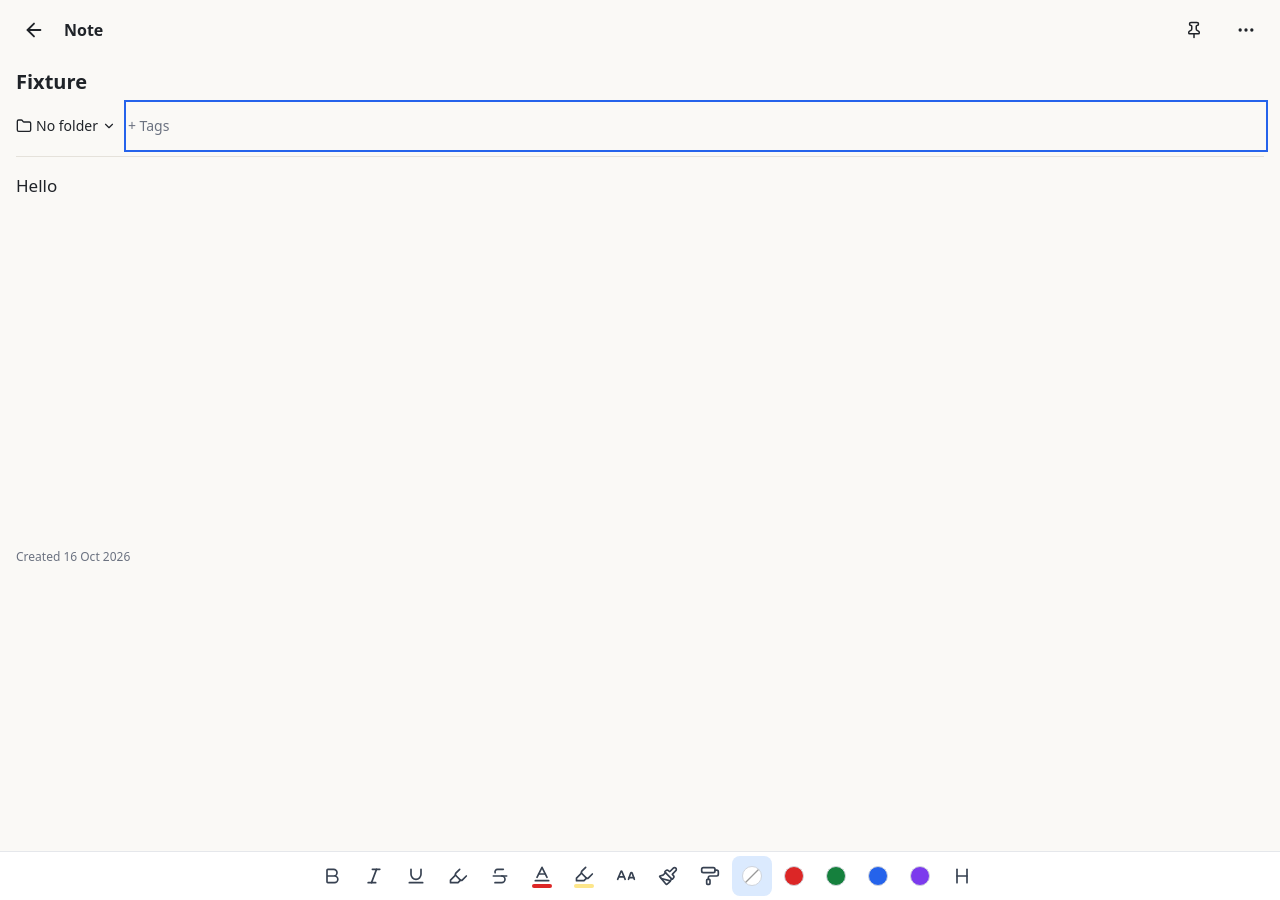
Test case: focuses tag entry with suggestions open, keeps them after adding, and saves through the queue before Done closes
Click the button with aria-label "Edit tags" at [149, 126], box [128, 104, 1264, 148]
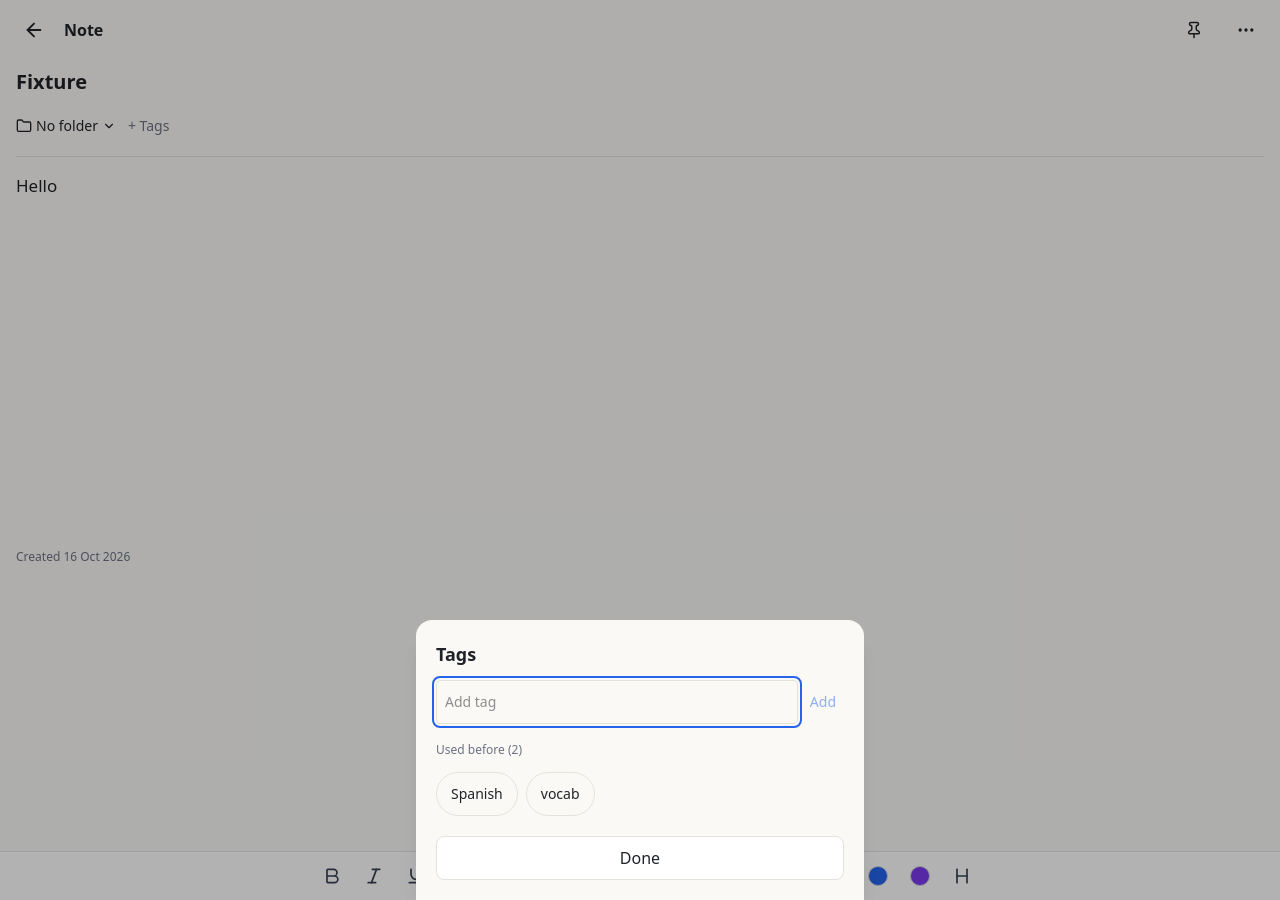
Click the button "Spanish" at [477, 794], box [436, 772, 518, 816]
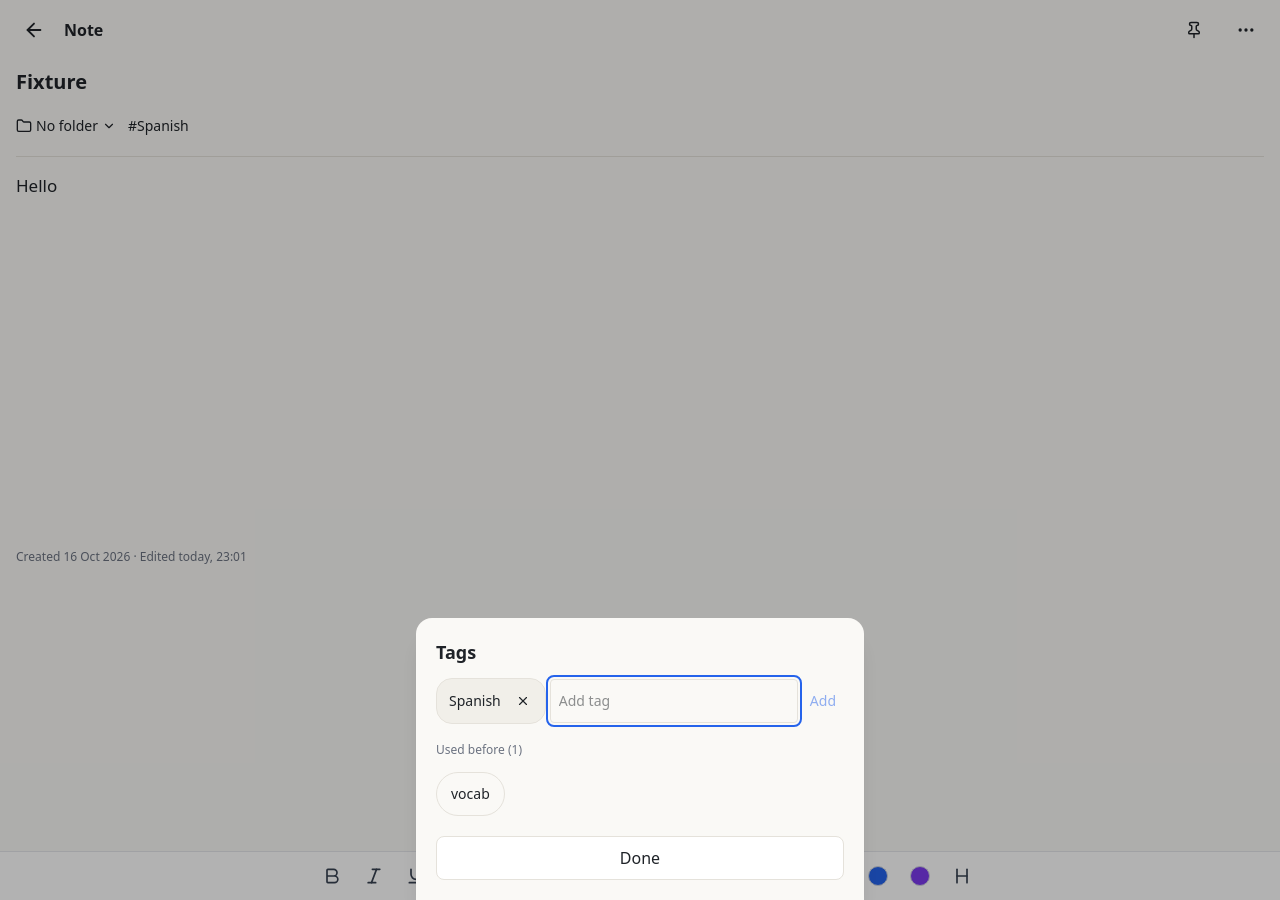
Expected: the button "vocab" is shown, [436, 772, 505, 816]
Click the button "Done" at [640, 858], box [436, 836, 844, 880]
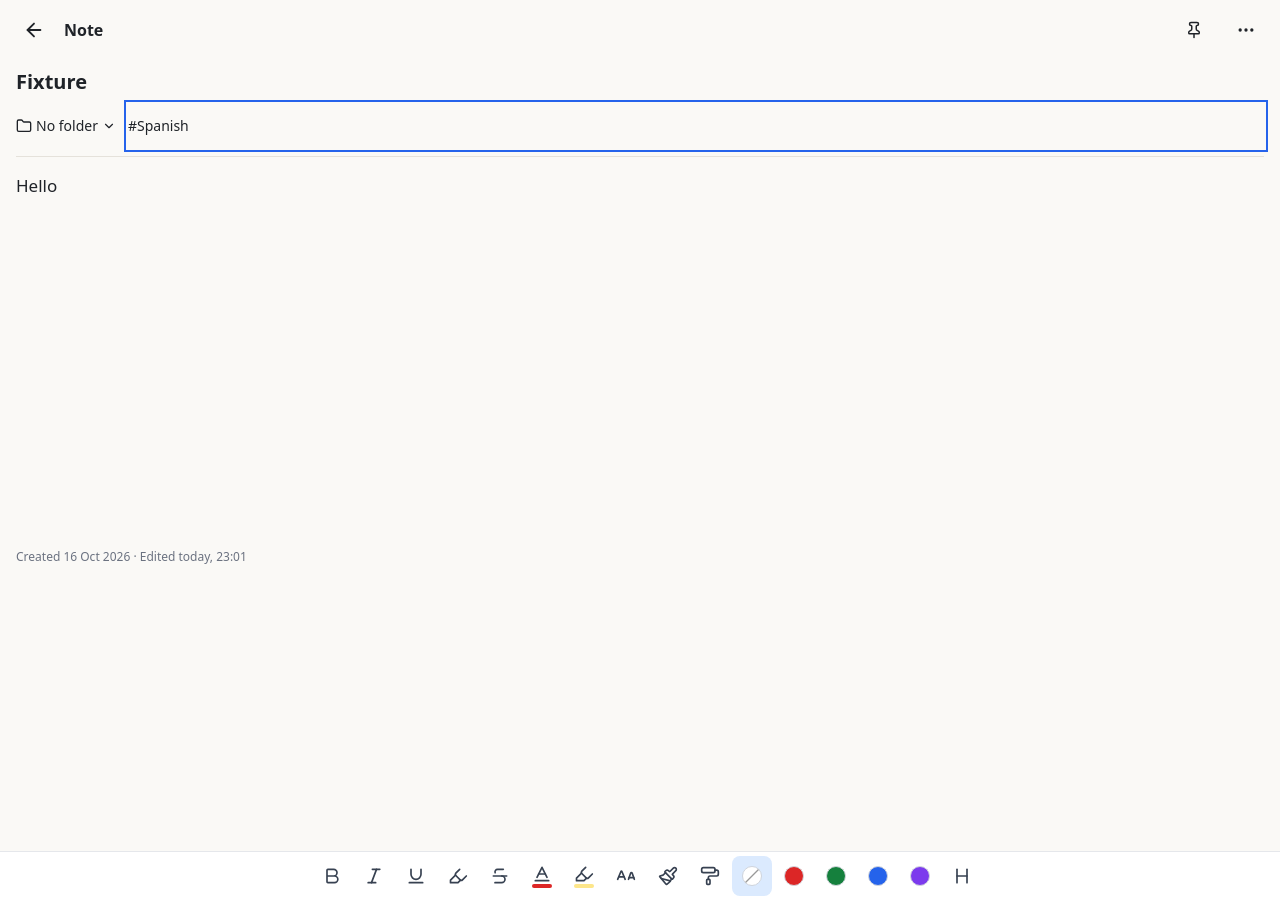
Expected: the button with aria-label "Edit tags" reads "#Spanish", [128, 104, 1264, 148]
Expected: the dialog is gone
